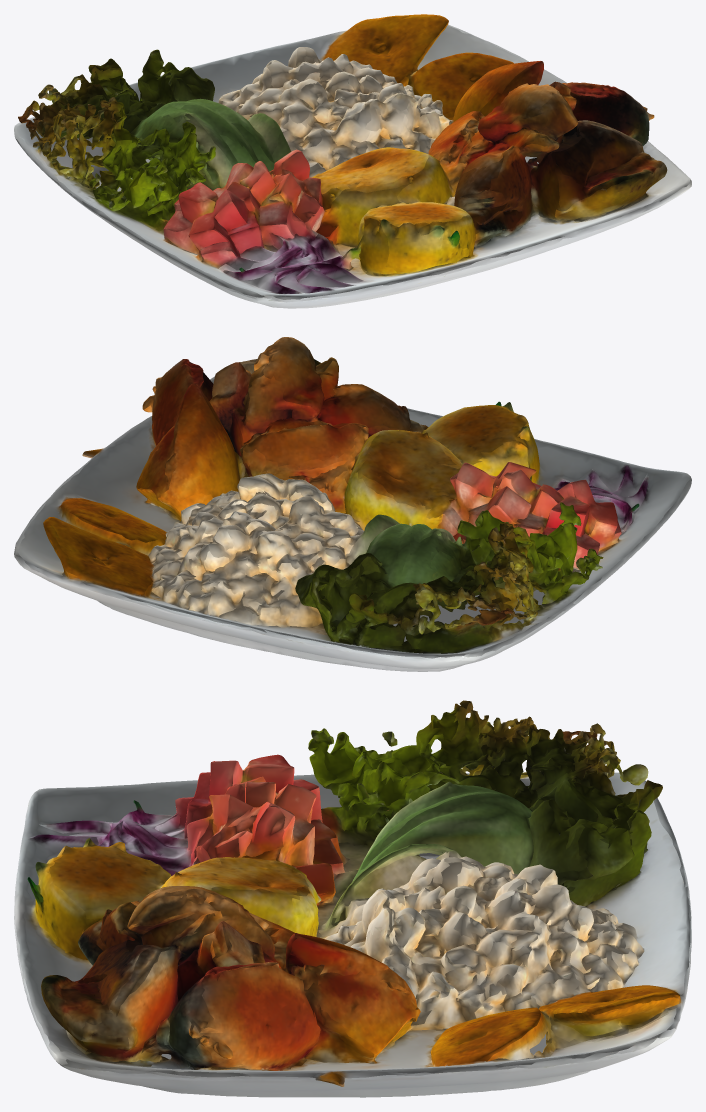
3 renders of one model, top to bottom at view 1: azimuth 30°, elevation 25°; view 2: azimuth 150°, elevation 25°; view 3: azimuth 270°, elevation 25°, orthographic. The views are drawn at different scales.
Visible parts, largest first — view 1: geometry_0; view 2: geometry_0; view 3: geometry_0.
Part boxes in pixels (x1=…): geometry_0: x1=14, y1=14, x2=691, y2=308; geometry_0: x1=14, y1=337, x2=691, y2=671; geometry_0: x1=14, y1=700, x2=691, y2=1097.
Size of the model in its own units: 0.2677 by 0.0678 by 0.2448.
Materials: 1 (1 with a texture image).
